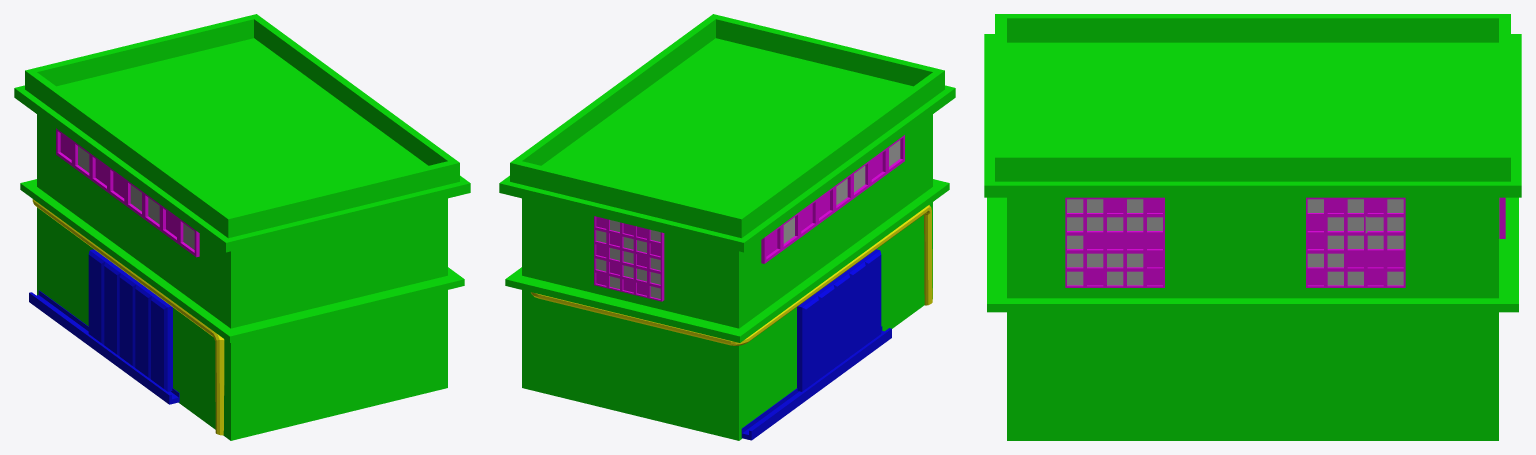
Rendered from house.fbx.
3 views of the same model, side by side, from view 1: azimuth 30°, elevation 25°; view 2: azimuth 150°, elevation 25°; view 3: azimuth 270°, elevation 25° (orthographic). The views are drawn at different scales.
Visible parts, largest first — view 1: polySurface3, pCube6, pCube8; view 2: polySurface3, pCube6, pCube8; view 3: polySurface3.
Boxes of the visible parts, x1,y1,x2,y2 form: polySurface3: (14,14,470,440); pCube6: (88,249,172,391); pCube8: (29,290,179,404); polySurface3: (499,14,955,440); pCube6: (797,249,881,391); pCube8: (741,326,891,440); polySurface3: (984,14,1521,440).
Bounding box in the file's own units: 58.38 × 51.73 × 87.5.
